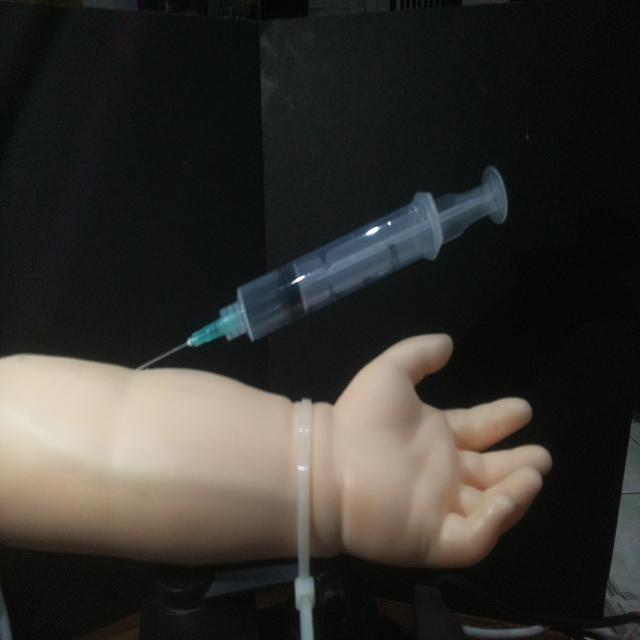22deg: (131, 159, 513, 373)
